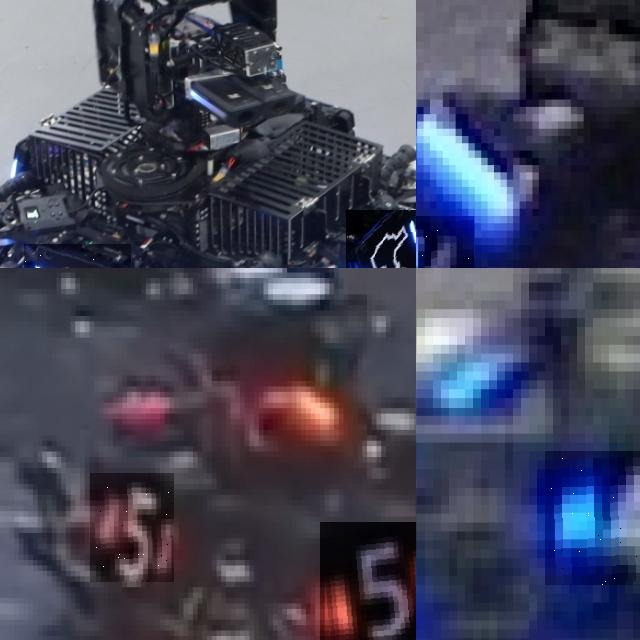B4: (545, 451, 640, 584), (416, 216, 474, 268)
Bs: (346, 209, 416, 268), (23, 244, 131, 268)
R5: (320, 522, 416, 640), (90, 473, 174, 582)
